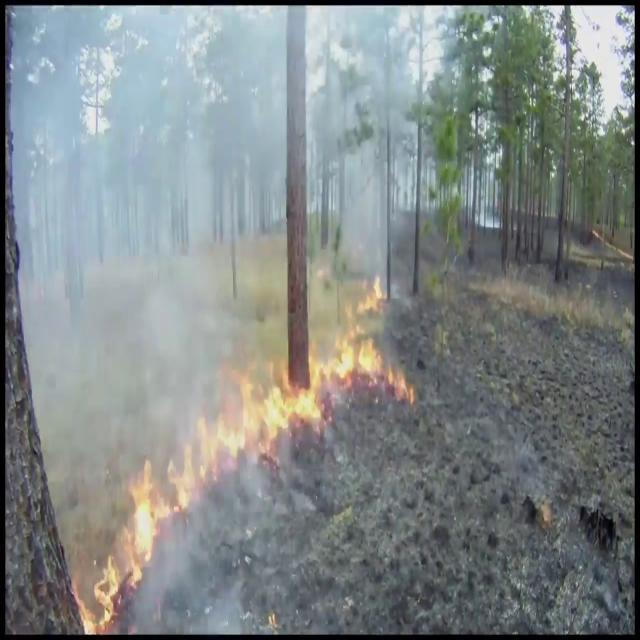Fire: (78, 449, 185, 634), (190, 358, 323, 464), (327, 272, 407, 396)
Smoke: (6, 9, 262, 458), (292, 10, 426, 294)
